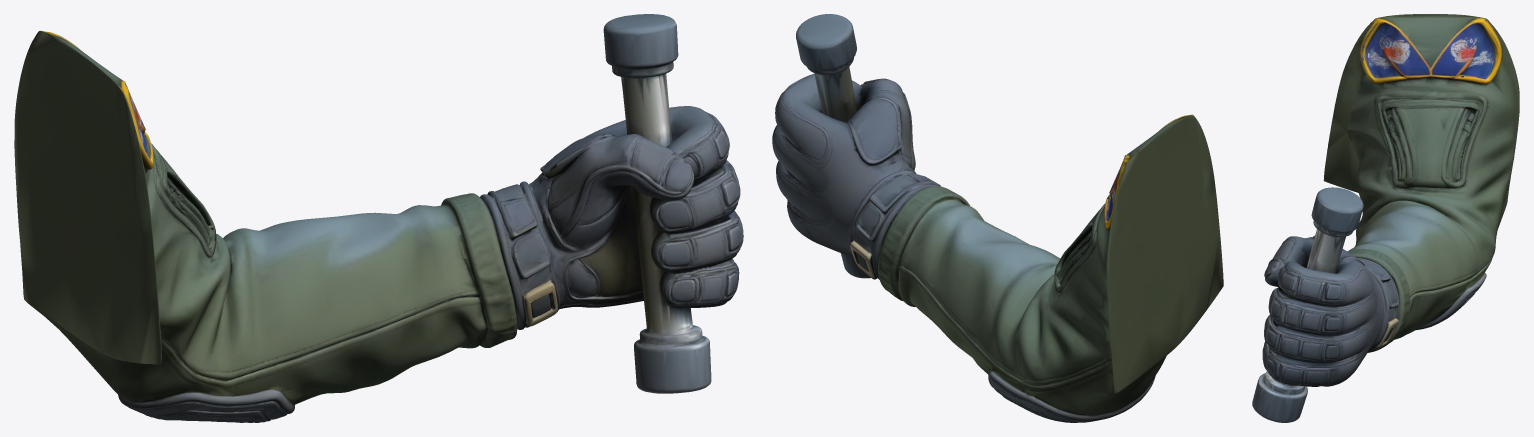
File: bras-pilote.glb
3 views of the same model, side by side, from view 1: azimuth 30°, elevation 25°; view 2: azimuth 150°, elevation 25°; view 3: azimuth 270°, elevation 25° (orthographic). The views are drawn at different scales.
Visible parts, largest first — view 1: node_0; view 2: node_0; view 3: node_0.
Boxes of the visible parts, left/top/right/bottom form: node_0: left=14, top=14, right=743, bottom=422; node_0: left=772, top=14, right=1223, bottom=422; node_0: left=1252, top=14, right=1519, bottom=422.
Size of the model in its own units: 0.9428 by 0.6211 by 0.5842.
Materials: 1 (1 with a texture image).
